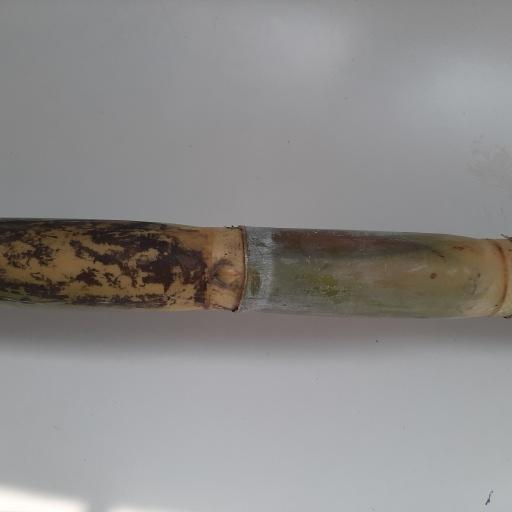Bud: (211, 261, 244, 285)
